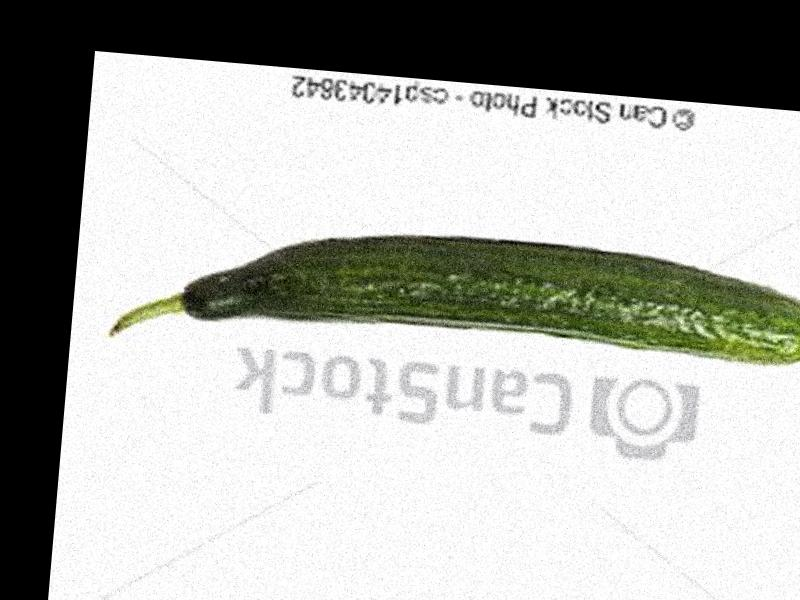Cucumber: (105, 206, 800, 393)
